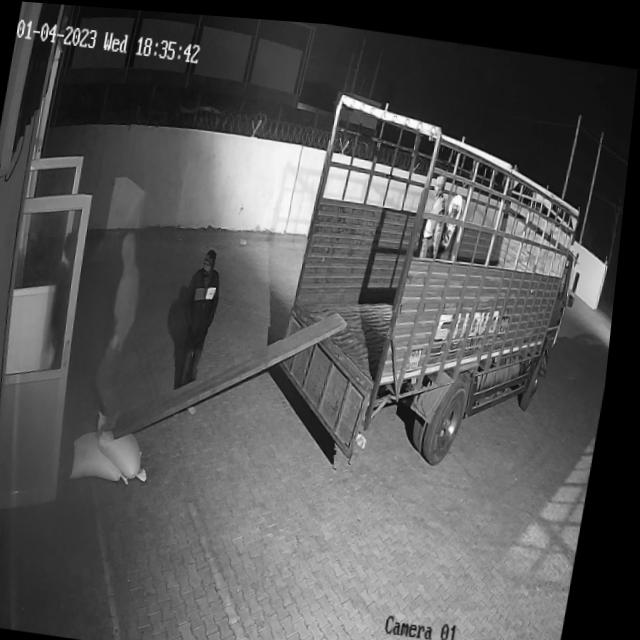sack: (77, 428, 146, 482), (99, 422, 163, 479)
